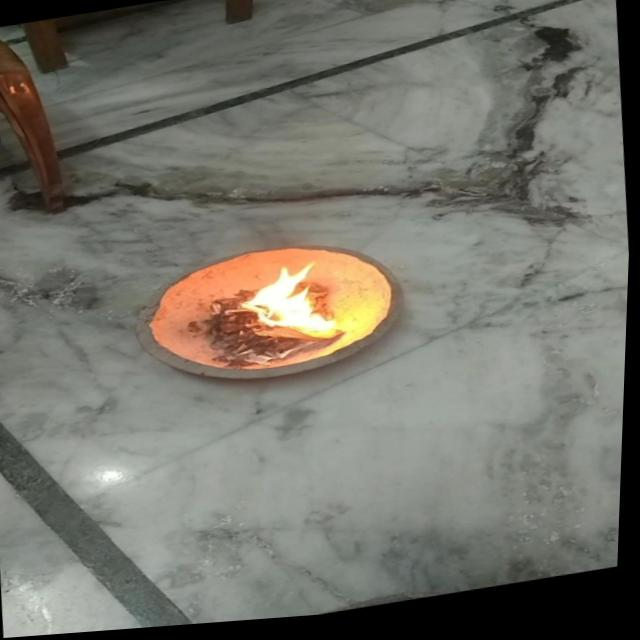fire: (237, 257, 348, 359)
